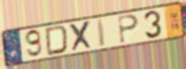3: (143, 9, 164, 40)
9: (24, 29, 44, 59)
D: (44, 24, 70, 58)
I: (96, 17, 107, 49)
P: (117, 13, 140, 45)
X: (68, 19, 94, 54)
